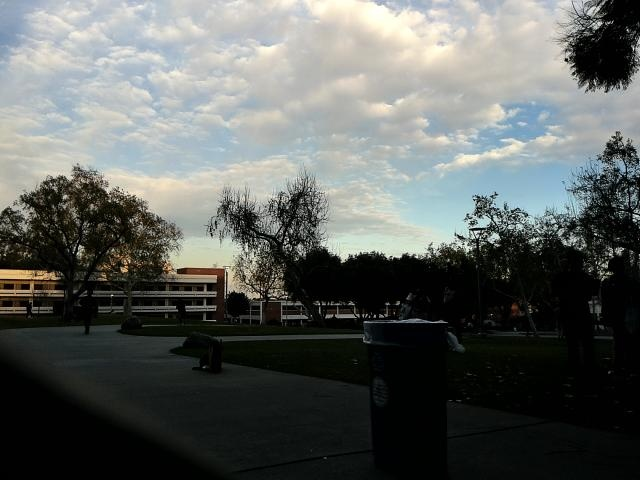trashcan_open: (355, 315, 457, 480)
